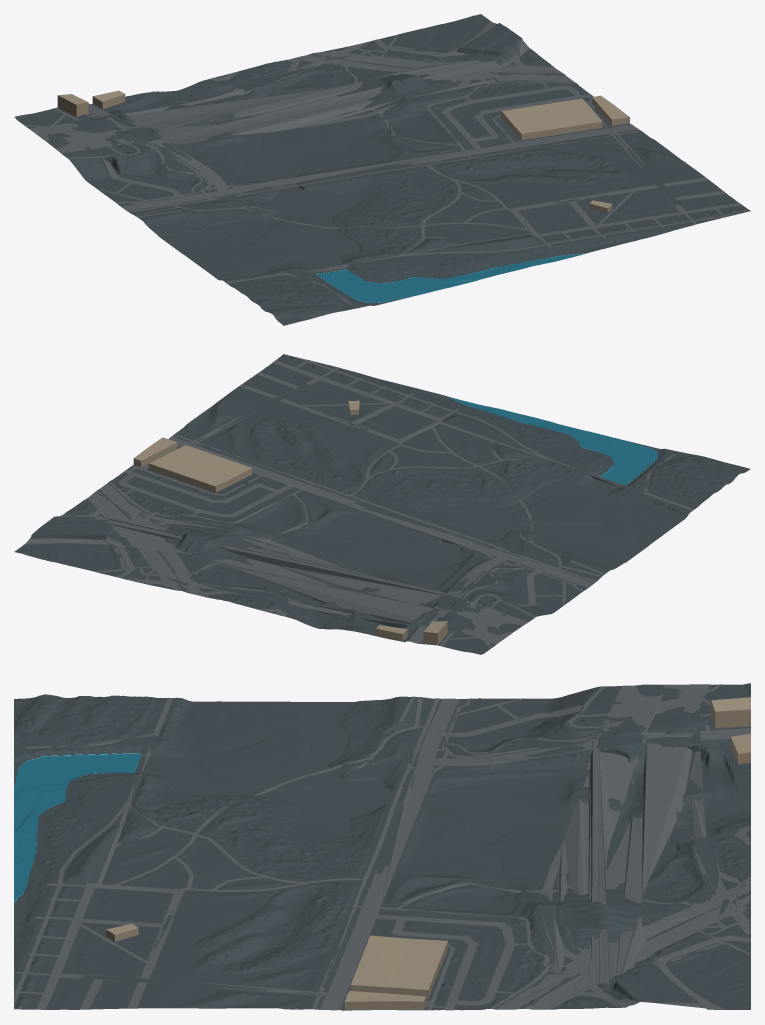
The model's file is epsg26910-1427-10896.lod0.glb.
3 views of the same model, one above another, from view 1: azimuth 30°, elevation 25°; view 2: azimuth 150°, elevation 25°; view 3: azimuth 270°, elevation 25° (orthographic). The views are drawn at different scales.
Parts seen in each view (by area): view 1: epsg26910-1427-10896-lod0; view 2: epsg26910-1427-10896-lod0; view 3: epsg26910-1427-10896-lod0.
Part boxes in pixels (box(x1,y1,x2,y2)): epsg26910-1427-10896-lod0: box(14, 14, 750, 325); epsg26910-1427-10896-lod0: box(14, 354, 750, 654); epsg26910-1427-10896-lod0: box(14, 683, 750, 1010).
Size of the model in its own units: 384 by 19.48 by 384.
